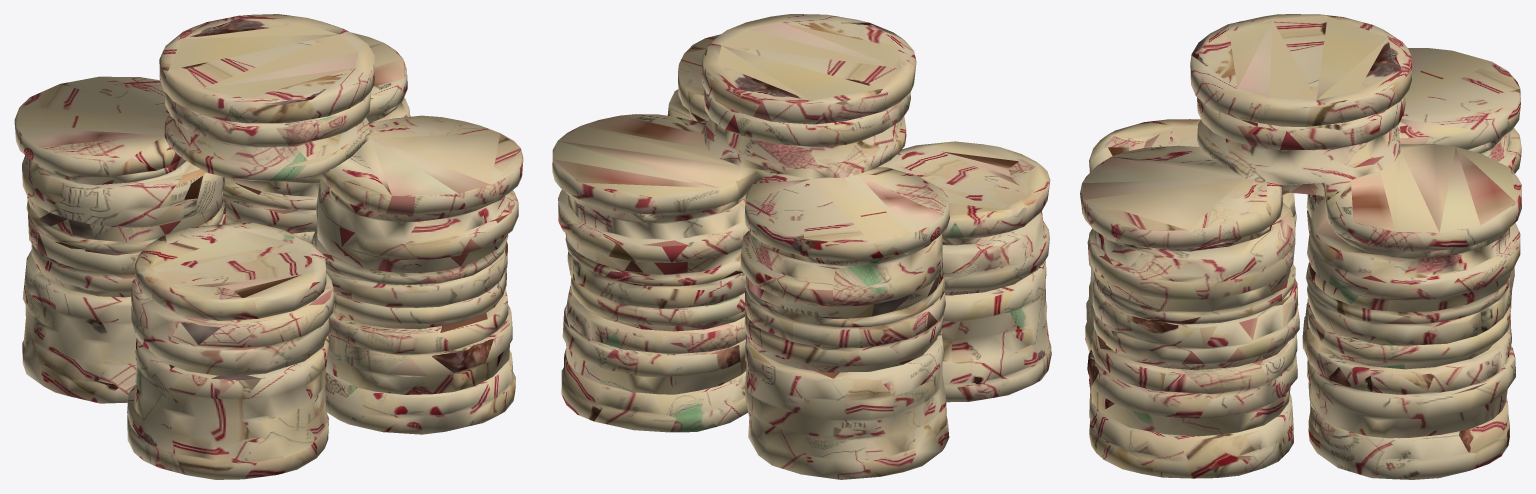
The model's file is fichasObjeto.fbx.
3 views of the same model, side by side, from view 1: azimuth 30°, elevation 25°; view 2: azimuth 150°, elevation 25°; view 3: azimuth 270°, elevation 25° (orthographic). The views are drawn at different scales.
Parts seen in each view (by area): view 1: Mesh_0; view 2: Mesh_0; view 3: Mesh_0.
Part boxes in pixels (x1,y1,x2,y2): Mesh_0: [14, 14, 523, 479]; Mesh_0: [552, 14, 1051, 479]; Mesh_0: [1080, 14, 1521, 479].
Size of the model in its own units: 190 by 157 by 191.
